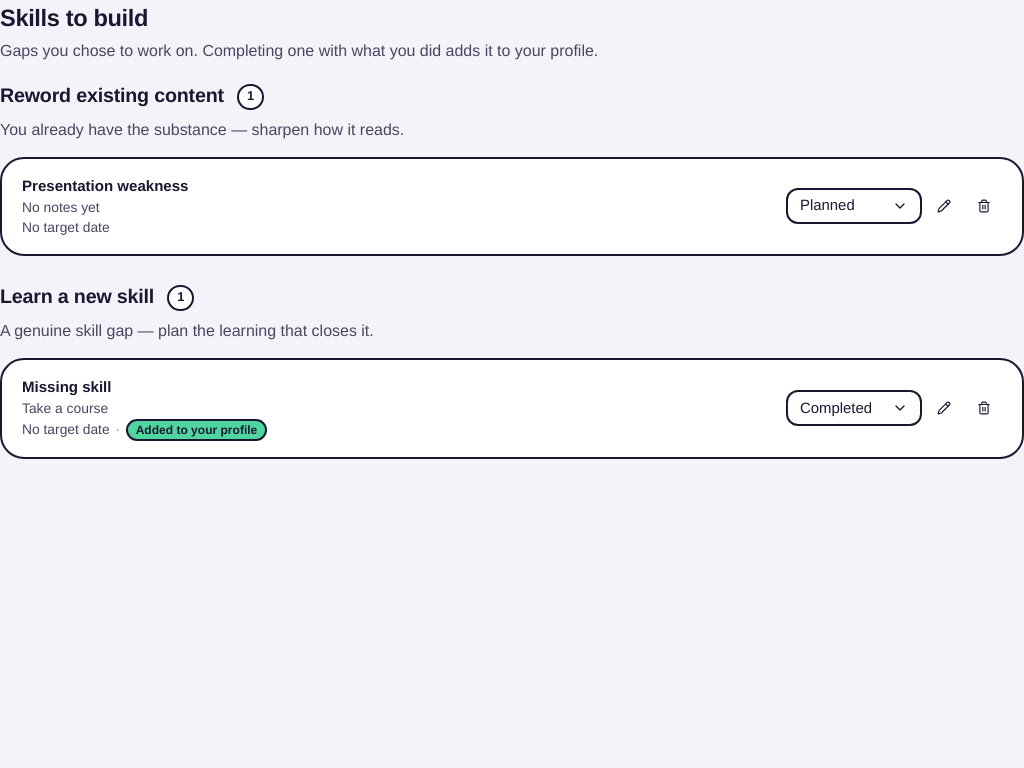
Test: SkillsToBuildSection › completing with nothing written only marks it done, as the server reports (no fact, no seal)
Step 1. Select "Completed" in the dropdown named "Status" in the row of "Presentation weakness" → point(860, 206), box [800,190,920,222]
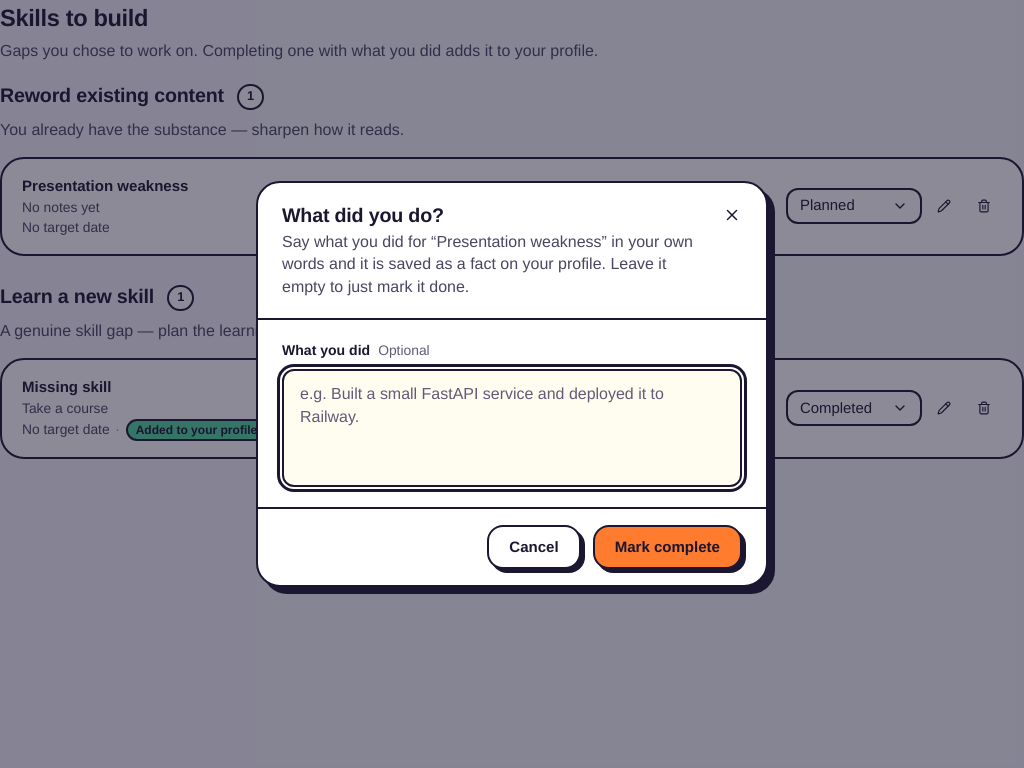
Step 2. Click the button "Mark complete" → point(667, 547), box [593,525,742,569]
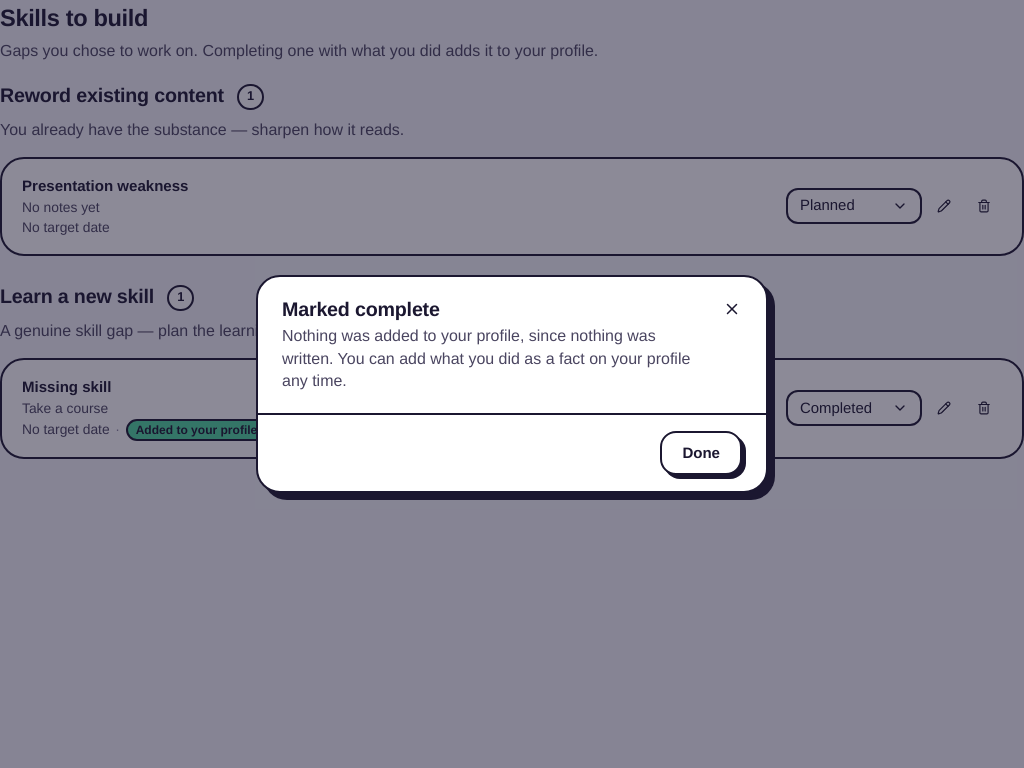
Now the text "Nothing was added to your profile" is shown, box [282,326,690,391]
